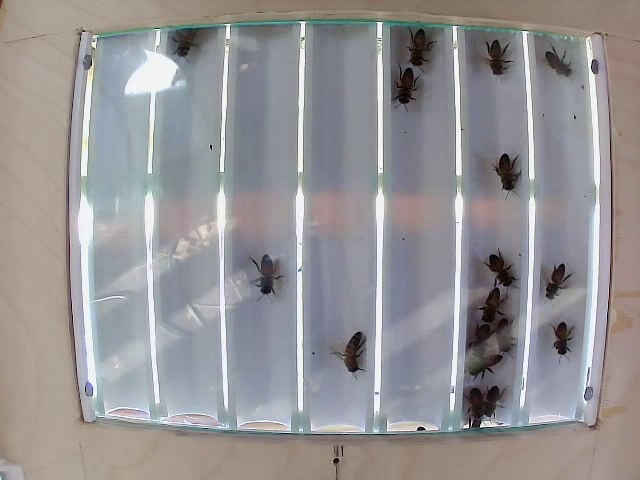bee: (336, 329, 372, 387), (251, 249, 293, 295), (483, 41, 518, 90), (486, 246, 521, 293), (403, 30, 437, 76), (494, 152, 522, 207), (390, 71, 421, 116), (549, 319, 579, 364), (540, 47, 576, 83), (542, 257, 569, 305), (173, 21, 202, 64), (473, 284, 502, 326), (482, 383, 512, 422), (459, 383, 488, 422), (491, 317, 517, 359), (465, 352, 503, 378), (463, 317, 489, 351)
